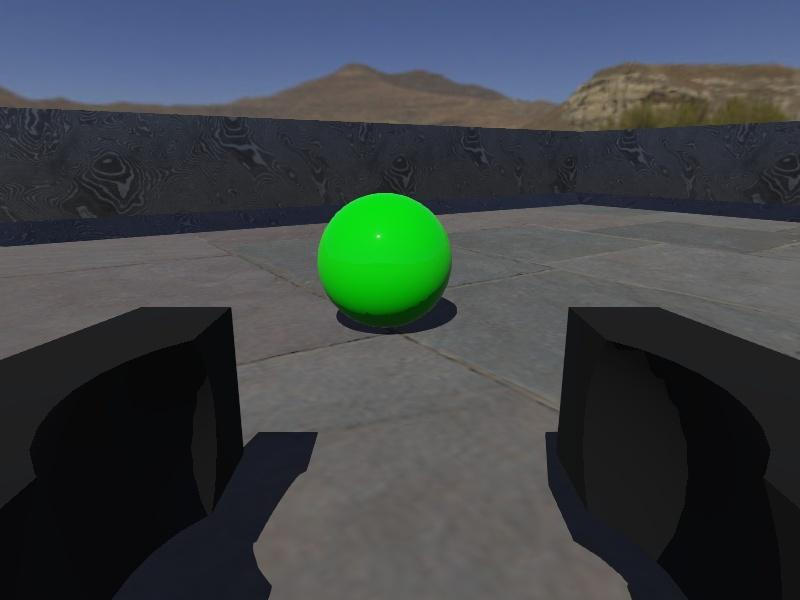green ball: (316, 191, 452, 329)
